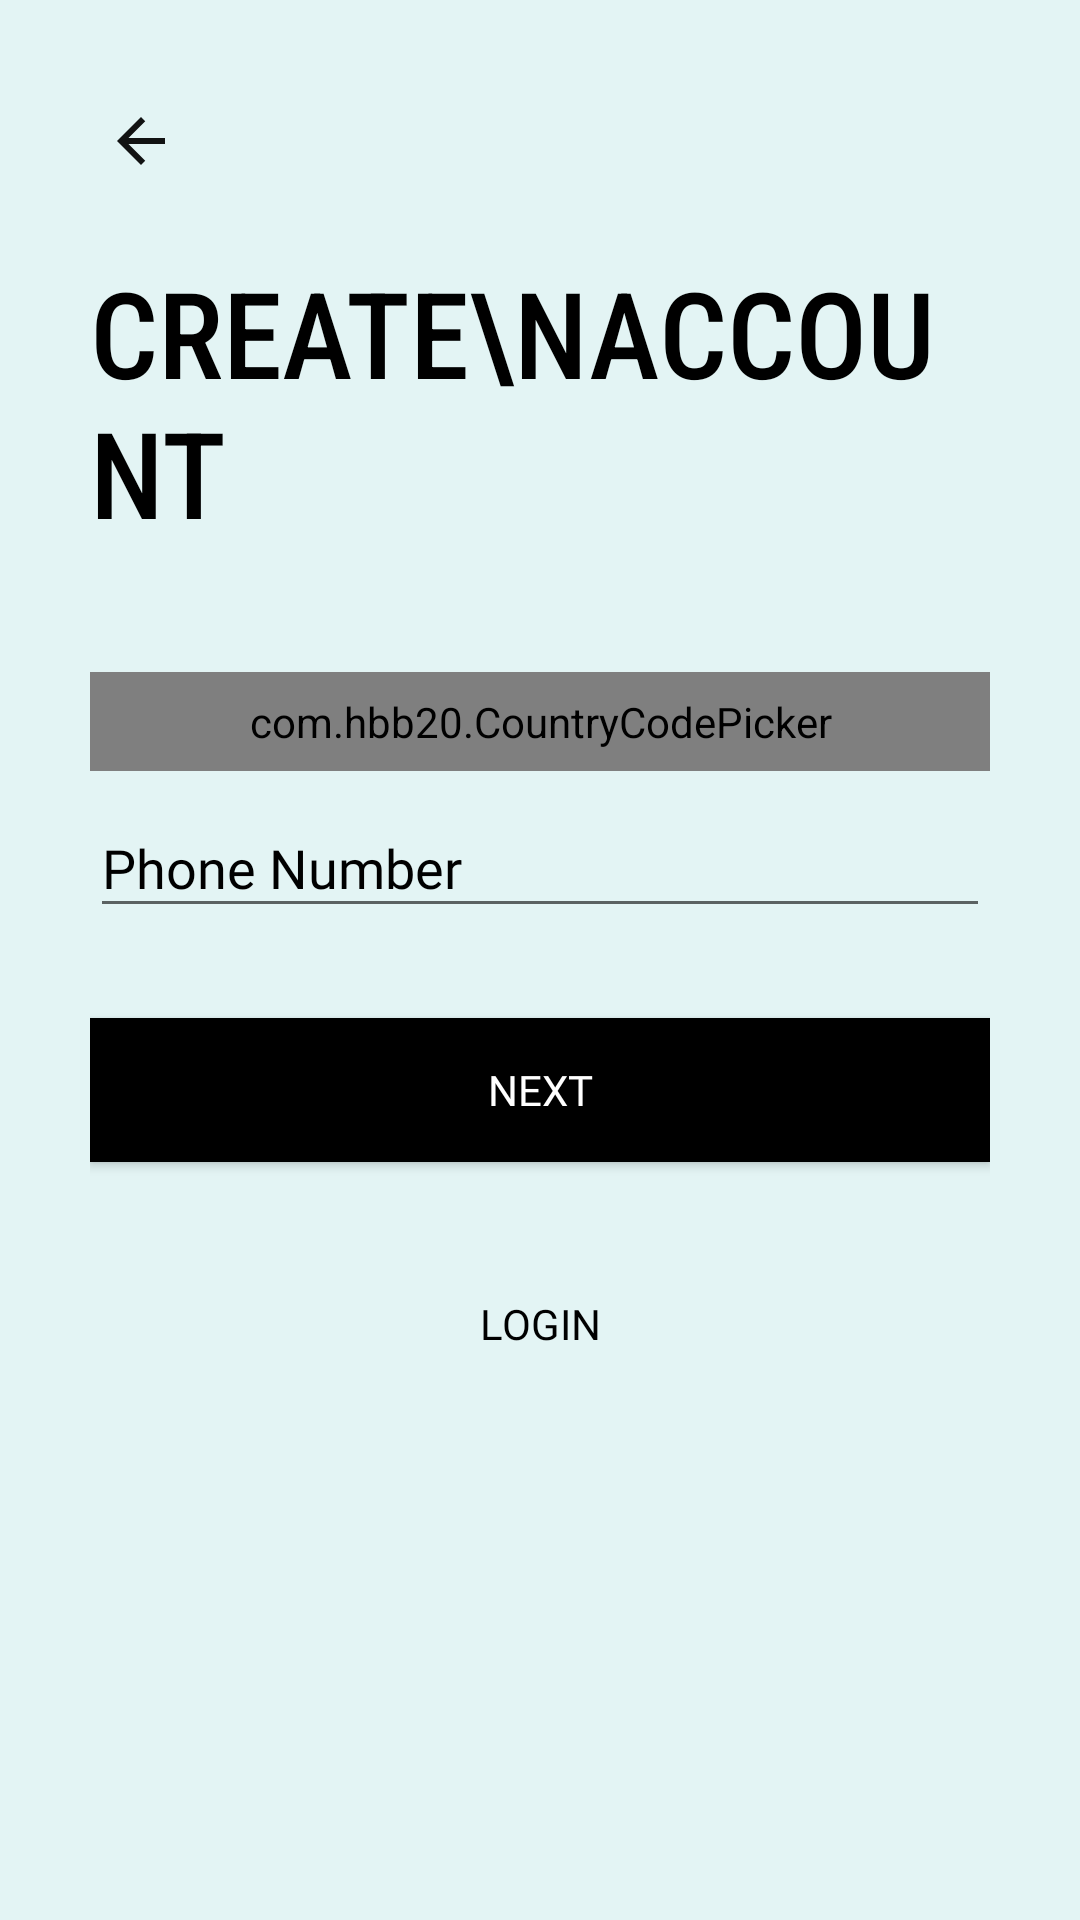

Point at icon controls on the screen. Image size 1080 x 1920, points as (x,y).
login back: (141,141)
